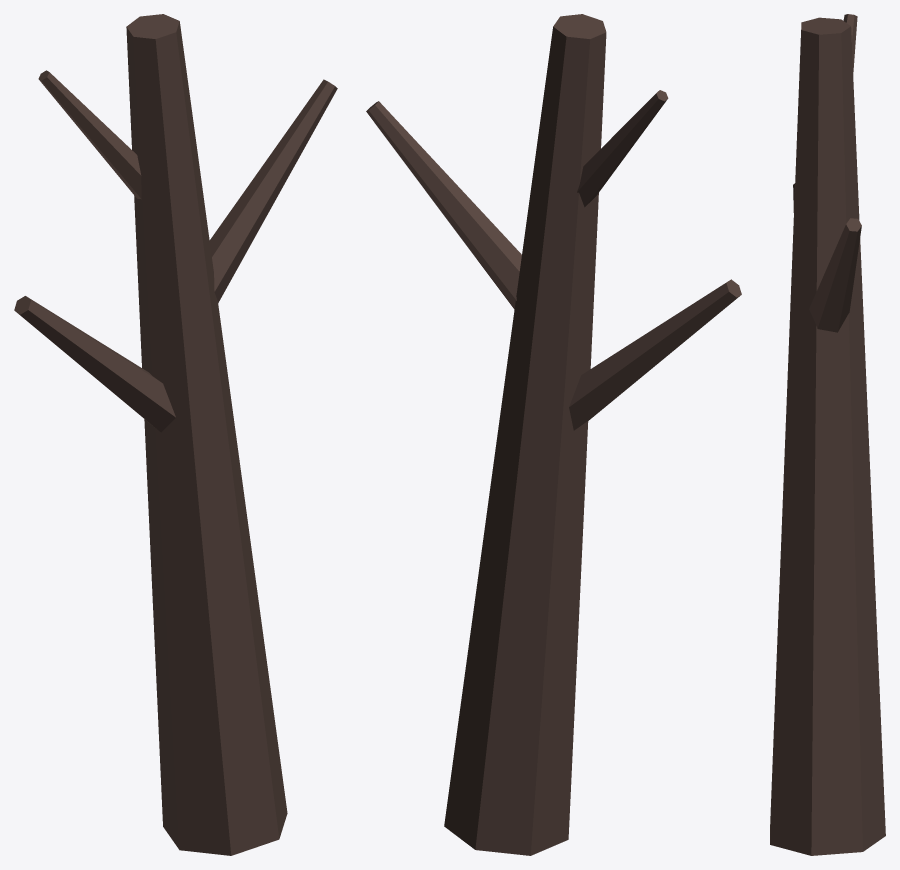
Rendered from EXT_DeadTree_03.glb.
The picture shows the model from 3 angles, left to right: view 1: azimuth 30°, elevation 25°; view 2: azimuth 150°, elevation 25°; view 3: azimuth 270°, elevation 25°; orthographic projection. The views are drawn at different scales.
Parts seen in each view (by area): view 1: EXT_DeadTree_03; view 2: EXT_DeadTree_03; view 3: EXT_DeadTree_03.
Part boxes in pixels (x1=…): EXT_DeadTree_03: x1=14, y1=14, x2=337, y2=855; EXT_DeadTree_03: x1=366, y1=14, x2=741, y2=855; EXT_DeadTree_03: x1=770, y1=14, x2=885, y2=855.
Bounding box in the file's own units: 2.61 × 5.95 × 0.7984.
